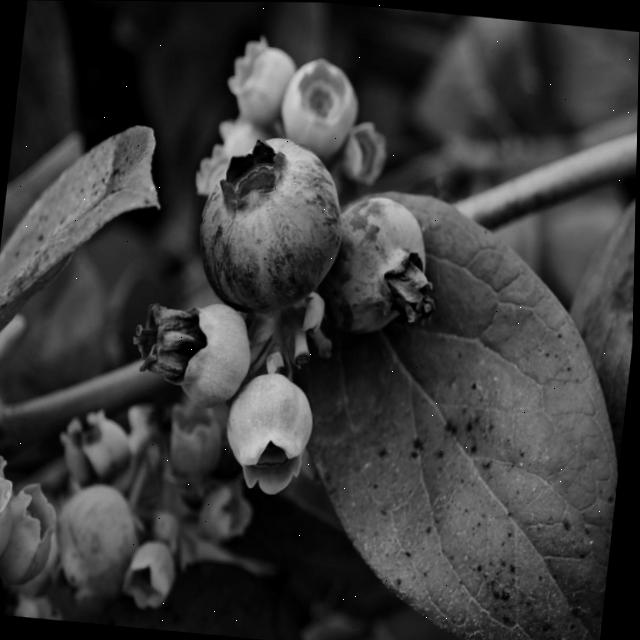RipeBlueBerry: (187, 127, 354, 322)
Semi-RipeBlueBerry: (325, 188, 436, 339)
UnripeBlueBerry: (221, 366, 323, 487), (162, 297, 256, 413)
